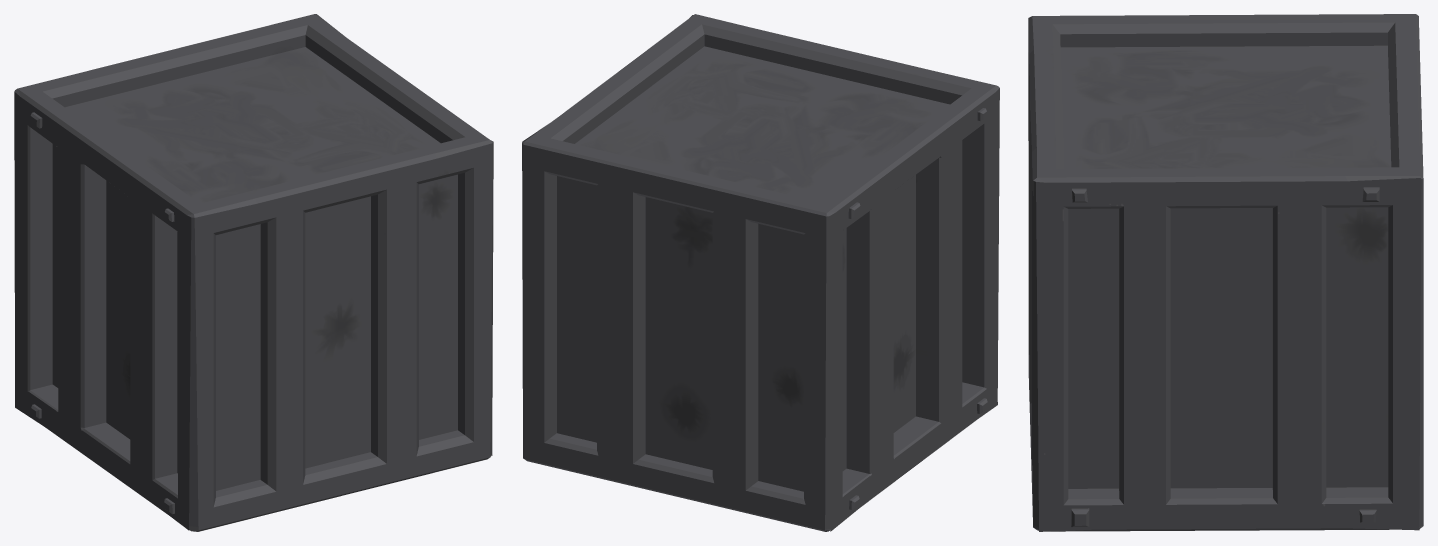
Rendered from Crate_improved.fbx.
3 views of the same model, side by side, from view 1: azimuth 30°, elevation 25°; view 2: azimuth 150°, elevation 25°; view 3: azimuth 270°, elevation 25° (orthographic). The views are drawn at different scales.
Visible parts, largest first — view 1: Cube; view 2: Cube; view 3: Cube.
Boxes of the visible parts, box(x1,y1,x2,y2) form: Cube: box(14, 14, 493, 531); Cube: box(522, 14, 999, 531); Cube: box(1028, 14, 1423, 531).
Size of the model in its own units: 209 by 200 by 202.
